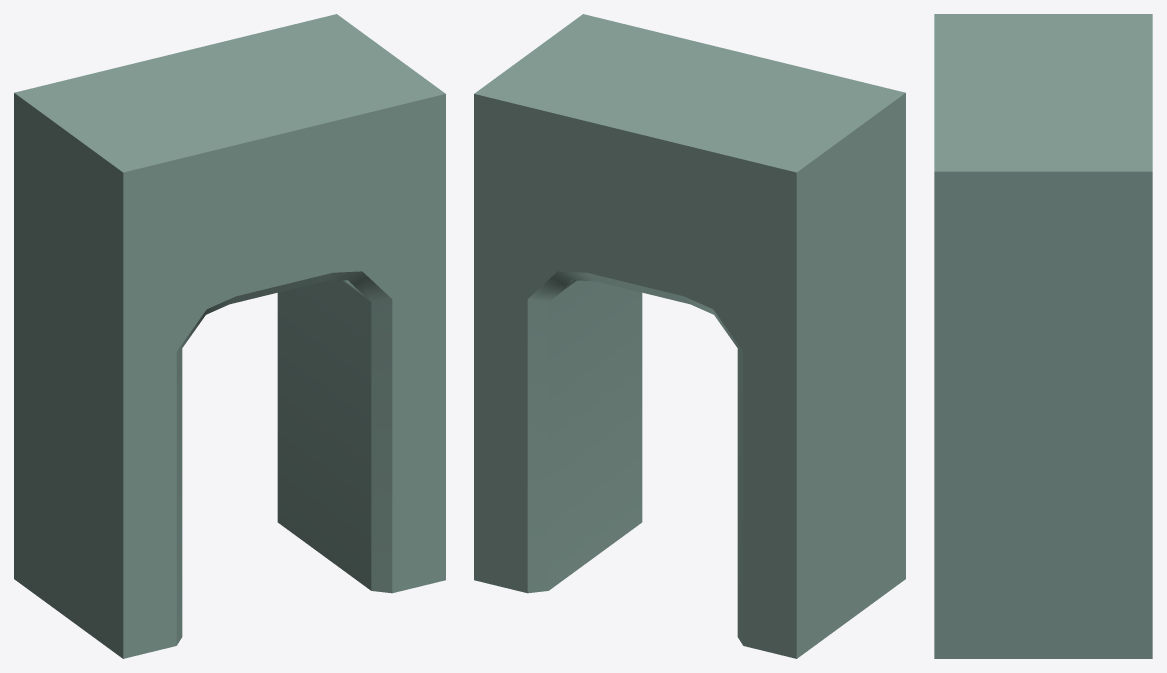
File: tunnel_01.fbx
The picture shows the model from 3 angles, left to right: view 1: azimuth 30°, elevation 25°; view 2: azimuth 150°, elevation 25°; view 3: azimuth 270°, elevation 25°; orthographic projection.
Visible parts, largest first — view 1: tunnel_01; view 2: tunnel_01; view 3: tunnel_01.
Part boxes in pixels (bbox=[...]): tunnel_01: bbox=[14, 14, 445, 658]; tunnel_01: bbox=[474, 14, 905, 658]; tunnel_01: bbox=[934, 14, 1152, 658].
Size of the model in its own units: 1.71 by 2.46 by 1.
